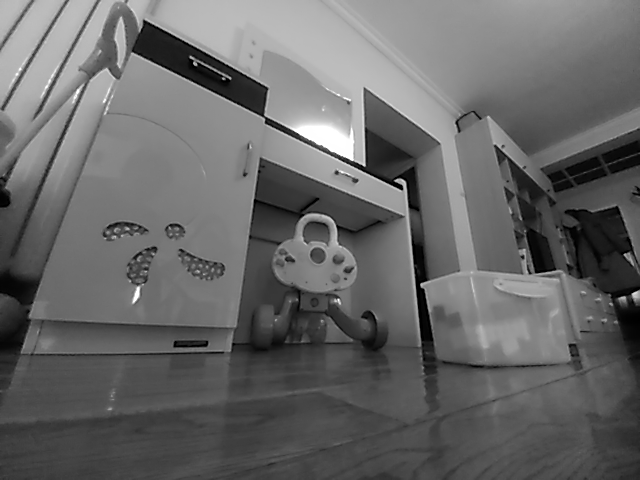others: (428, 306, 571, 366)
toy: (247, 277, 390, 353)
